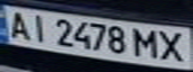2: (48, 16, 75, 48)
4: (69, 19, 93, 51)
7: (87, 20, 109, 52)
8: (106, 22, 130, 55)
A: (3, 8, 33, 41)
I: (24, 11, 51, 43)
M: (130, 25, 163, 60)
X: (154, 28, 190, 63)
